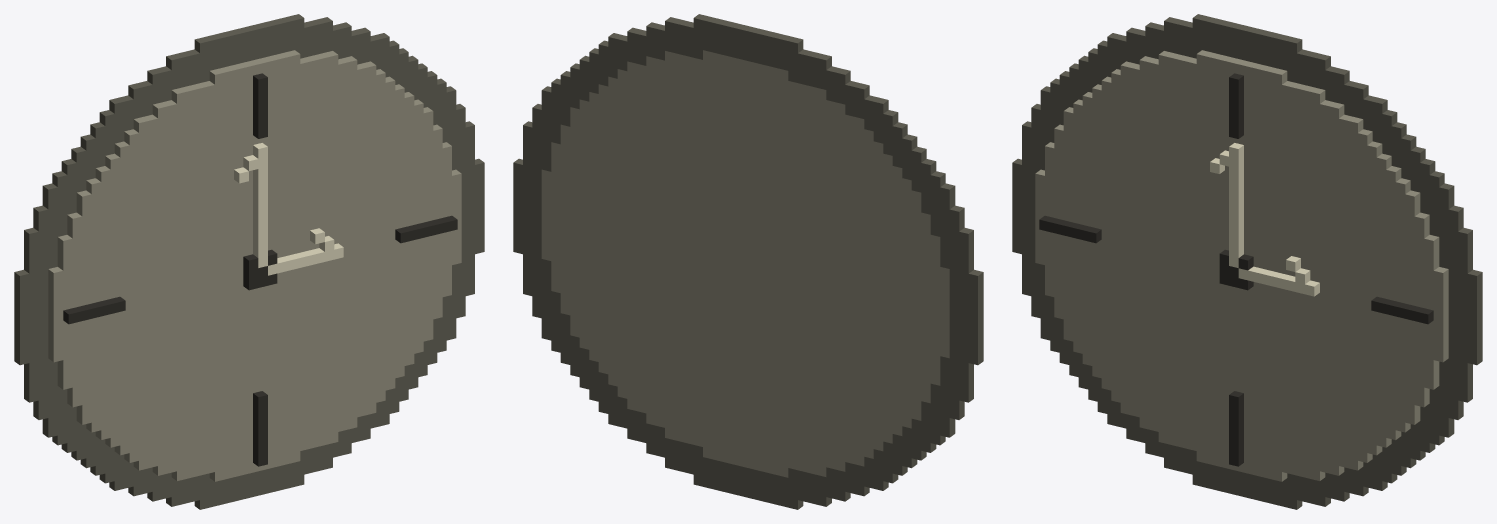
Rendered from factory4.5-9.obj.
3 views of the same model, side by side, from view 1: azimuth 30°, elevation 25°; view 2: azimuth 150°, elevation 25°; view 3: azimuth 330°, elevation 25° (orthographic).
Bounding box in the file's own units: 4.9 × 4.7 × 0.3.
Materials: 1 (1 with a texture image).
